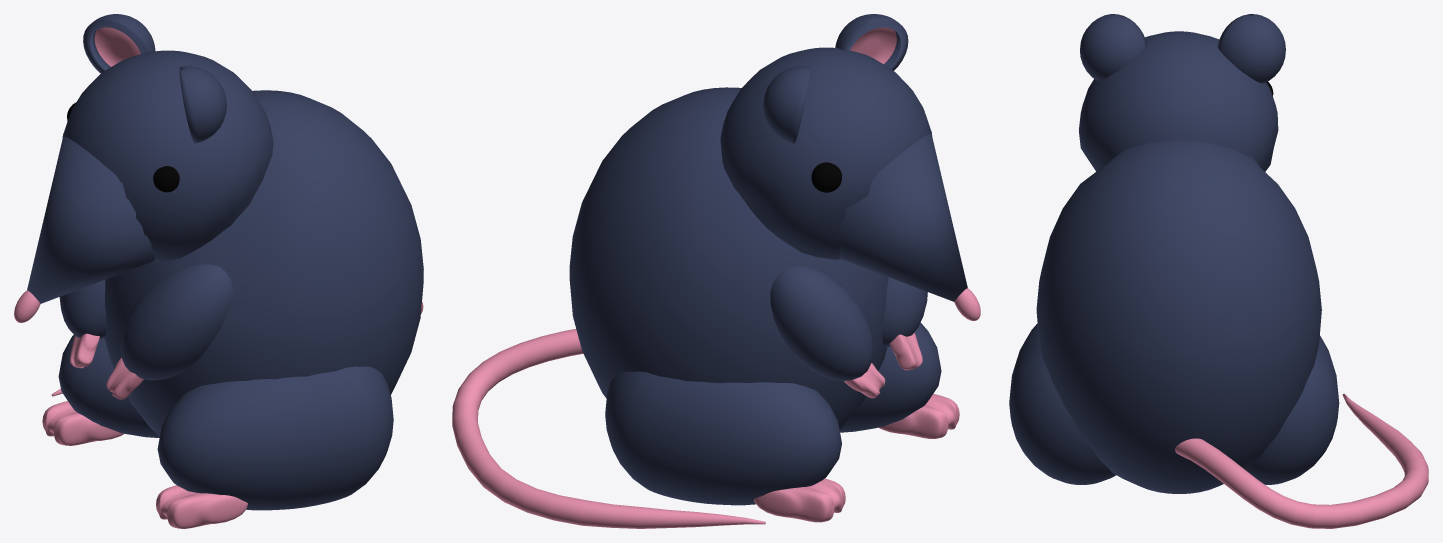
The model's file is rat - joined blue.fbx.
3 views of the same model, side by side, from view 1: azimuth 30°, elevation 25°; view 2: azimuth 150°, elevation 25°; view 3: azimuth 270°, elevation 25° (orthographic). The views are drawn at different scales.
Parts seen in each view (by area): view 1: rat blue; view 2: rat blue; view 3: rat blue.
Boxes of the visible parts, x1=… form: rat blue: x1=14, y1=14, x2=423, y2=528; rat blue: x1=452, y1=14, x2=980, y2=528; rat blue: x1=1009, y1=14, x2=1428, y2=528.
Size of the model in its own units: 346 by 322 by 294.
